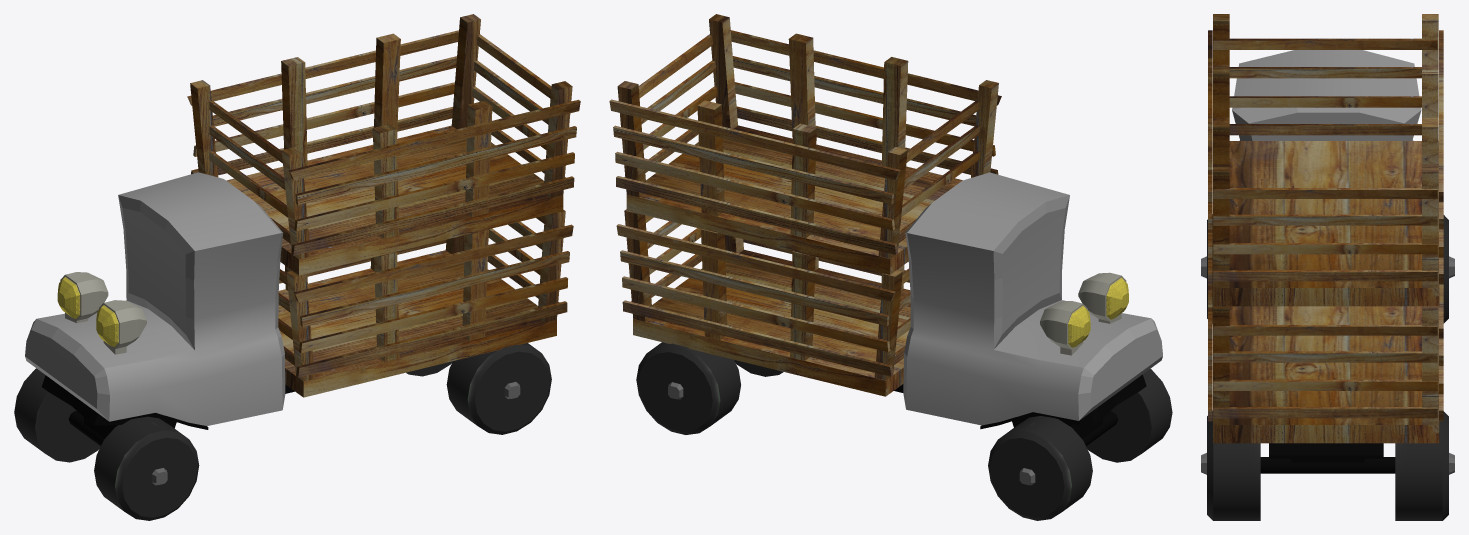
The model's file is Truck2.obj.
3 renders of one model, left to right at view 1: azimuth 30°, elevation 25°; view 2: azimuth 150°, elevation 25°; view 3: azimuth 270°, elevation 25°, orthographic. The views are drawn at different scales.
Visible parts, largest first — view 1: Box045, Box212, Box216, Box198, Cylinder037, Cylinder035, Box193, Cylinder038, Box222, Box217, Box214, Box215 (+17 smaller); view 2: Box045, Box212, Box216, Box198, Cylinder038, Cylinder036, Box193, Cylinder037, Box210, Box213, Box223, Box211 (+18 smaller); view 3: Box216, Box198, Box045, Box212, Cylinder036, Cylinder035, Box193, Box203, Box221, Box220, Box227, Box201 (+12 smaller).
Part boxes in pixels (x1=…): Box045: x1=25, y1=172, x2=285, y2=425; Box212: x1=190, y1=14, x2=572, y2=259; Box216: x1=226, y1=125, x2=563, y2=275; Box198: x1=278, y1=250, x2=556, y2=397; Cylinder037: x1=94, y1=416, x2=199, y2=520; Cylinder035: x1=446, y1=343, x2=551, y2=434; Box193: x1=285, y1=210, x2=565, y2=381; Cylinder038: x1=14, y1=368, x2=100, y2=462; Box222: x1=288, y1=99, x2=580, y2=180; Box217: x1=291, y1=176, x2=574, y2=255; Box214: x1=295, y1=126, x2=576, y2=204; Box215: x1=294, y1=152, x2=574, y2=230; Box045: x1=903, y1=172, x2=1162, y2=425; Box212: x1=617, y1=14, x2=998, y2=258; Box216: x1=626, y1=125, x2=962, y2=274; Box198: x1=633, y1=249, x2=910, y2=396; Cylinder038: x1=988, y1=416, x2=1092, y2=520; Cylinder036: x1=636, y1=342, x2=740, y2=434; Box193: x1=624, y1=209, x2=904, y2=380; Cylinder037: x1=1086, y1=369, x2=1172, y2=462; Box210: x1=609, y1=99, x2=900, y2=179; Box213: x1=616, y1=176, x2=897, y2=254; Box223: x1=613, y1=125, x2=893, y2=204; Box211: x1=615, y1=151, x2=894, y2=230; Box216: x1=1213, y1=141, x2=1439, y2=306; Box198: x1=1213, y1=306, x2=1439, y2=443; Box045: x1=1232, y1=50, x2=1421, y2=140; Box212: x1=1213, y1=14, x2=1438, y2=287; Cylinder036: x1=1395, y1=411, x2=1448, y2=520; Cylinder035: x1=1207, y1=411, x2=1260, y2=520; Box193: x1=1213, y1=306, x2=1438, y2=424; Box203: x1=1213, y1=407, x2=1437, y2=418; Box221: x1=1213, y1=270, x2=1437, y2=281; Box220: x1=1213, y1=243, x2=1437, y2=254; Box227: x1=1213, y1=38, x2=1437, y2=49; Box201: x1=1213, y1=351, x2=1437, y2=362.
Size of the model in its own units: 293 by 198 by 120.
